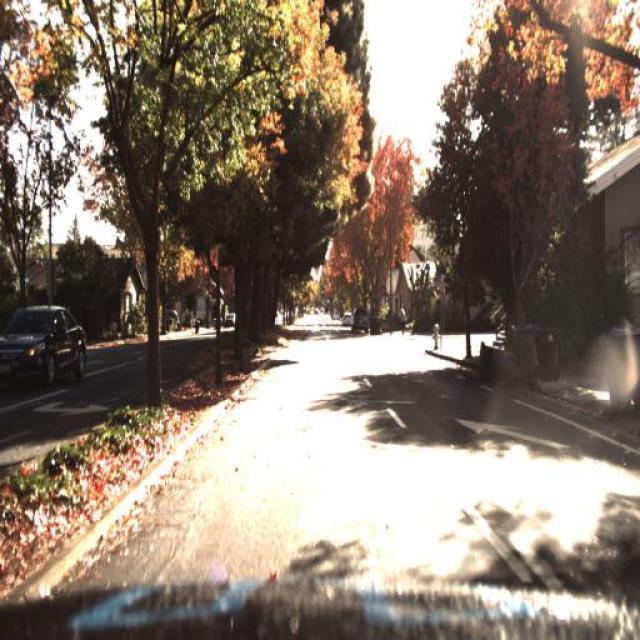car: (0, 303, 88, 388), (347, 305, 371, 336)
trafficLight: (398, 302, 409, 336), (398, 298, 407, 333)
